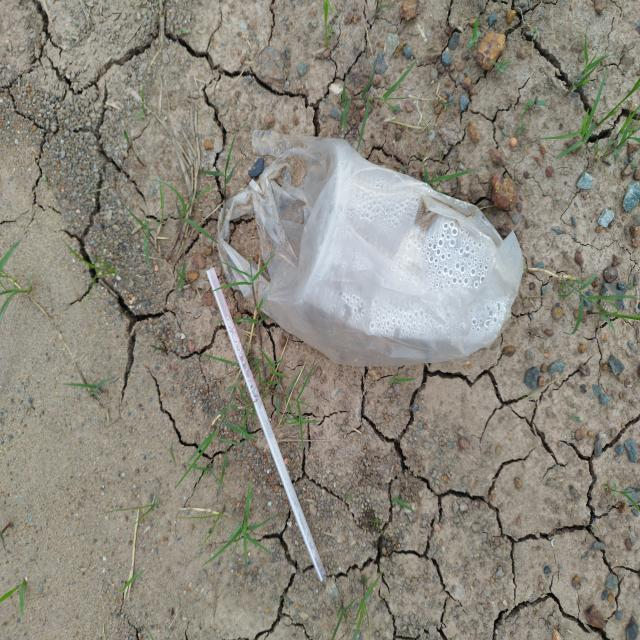drinking straw: (206, 267, 326, 581)
trash bag: (217, 128, 523, 366)
